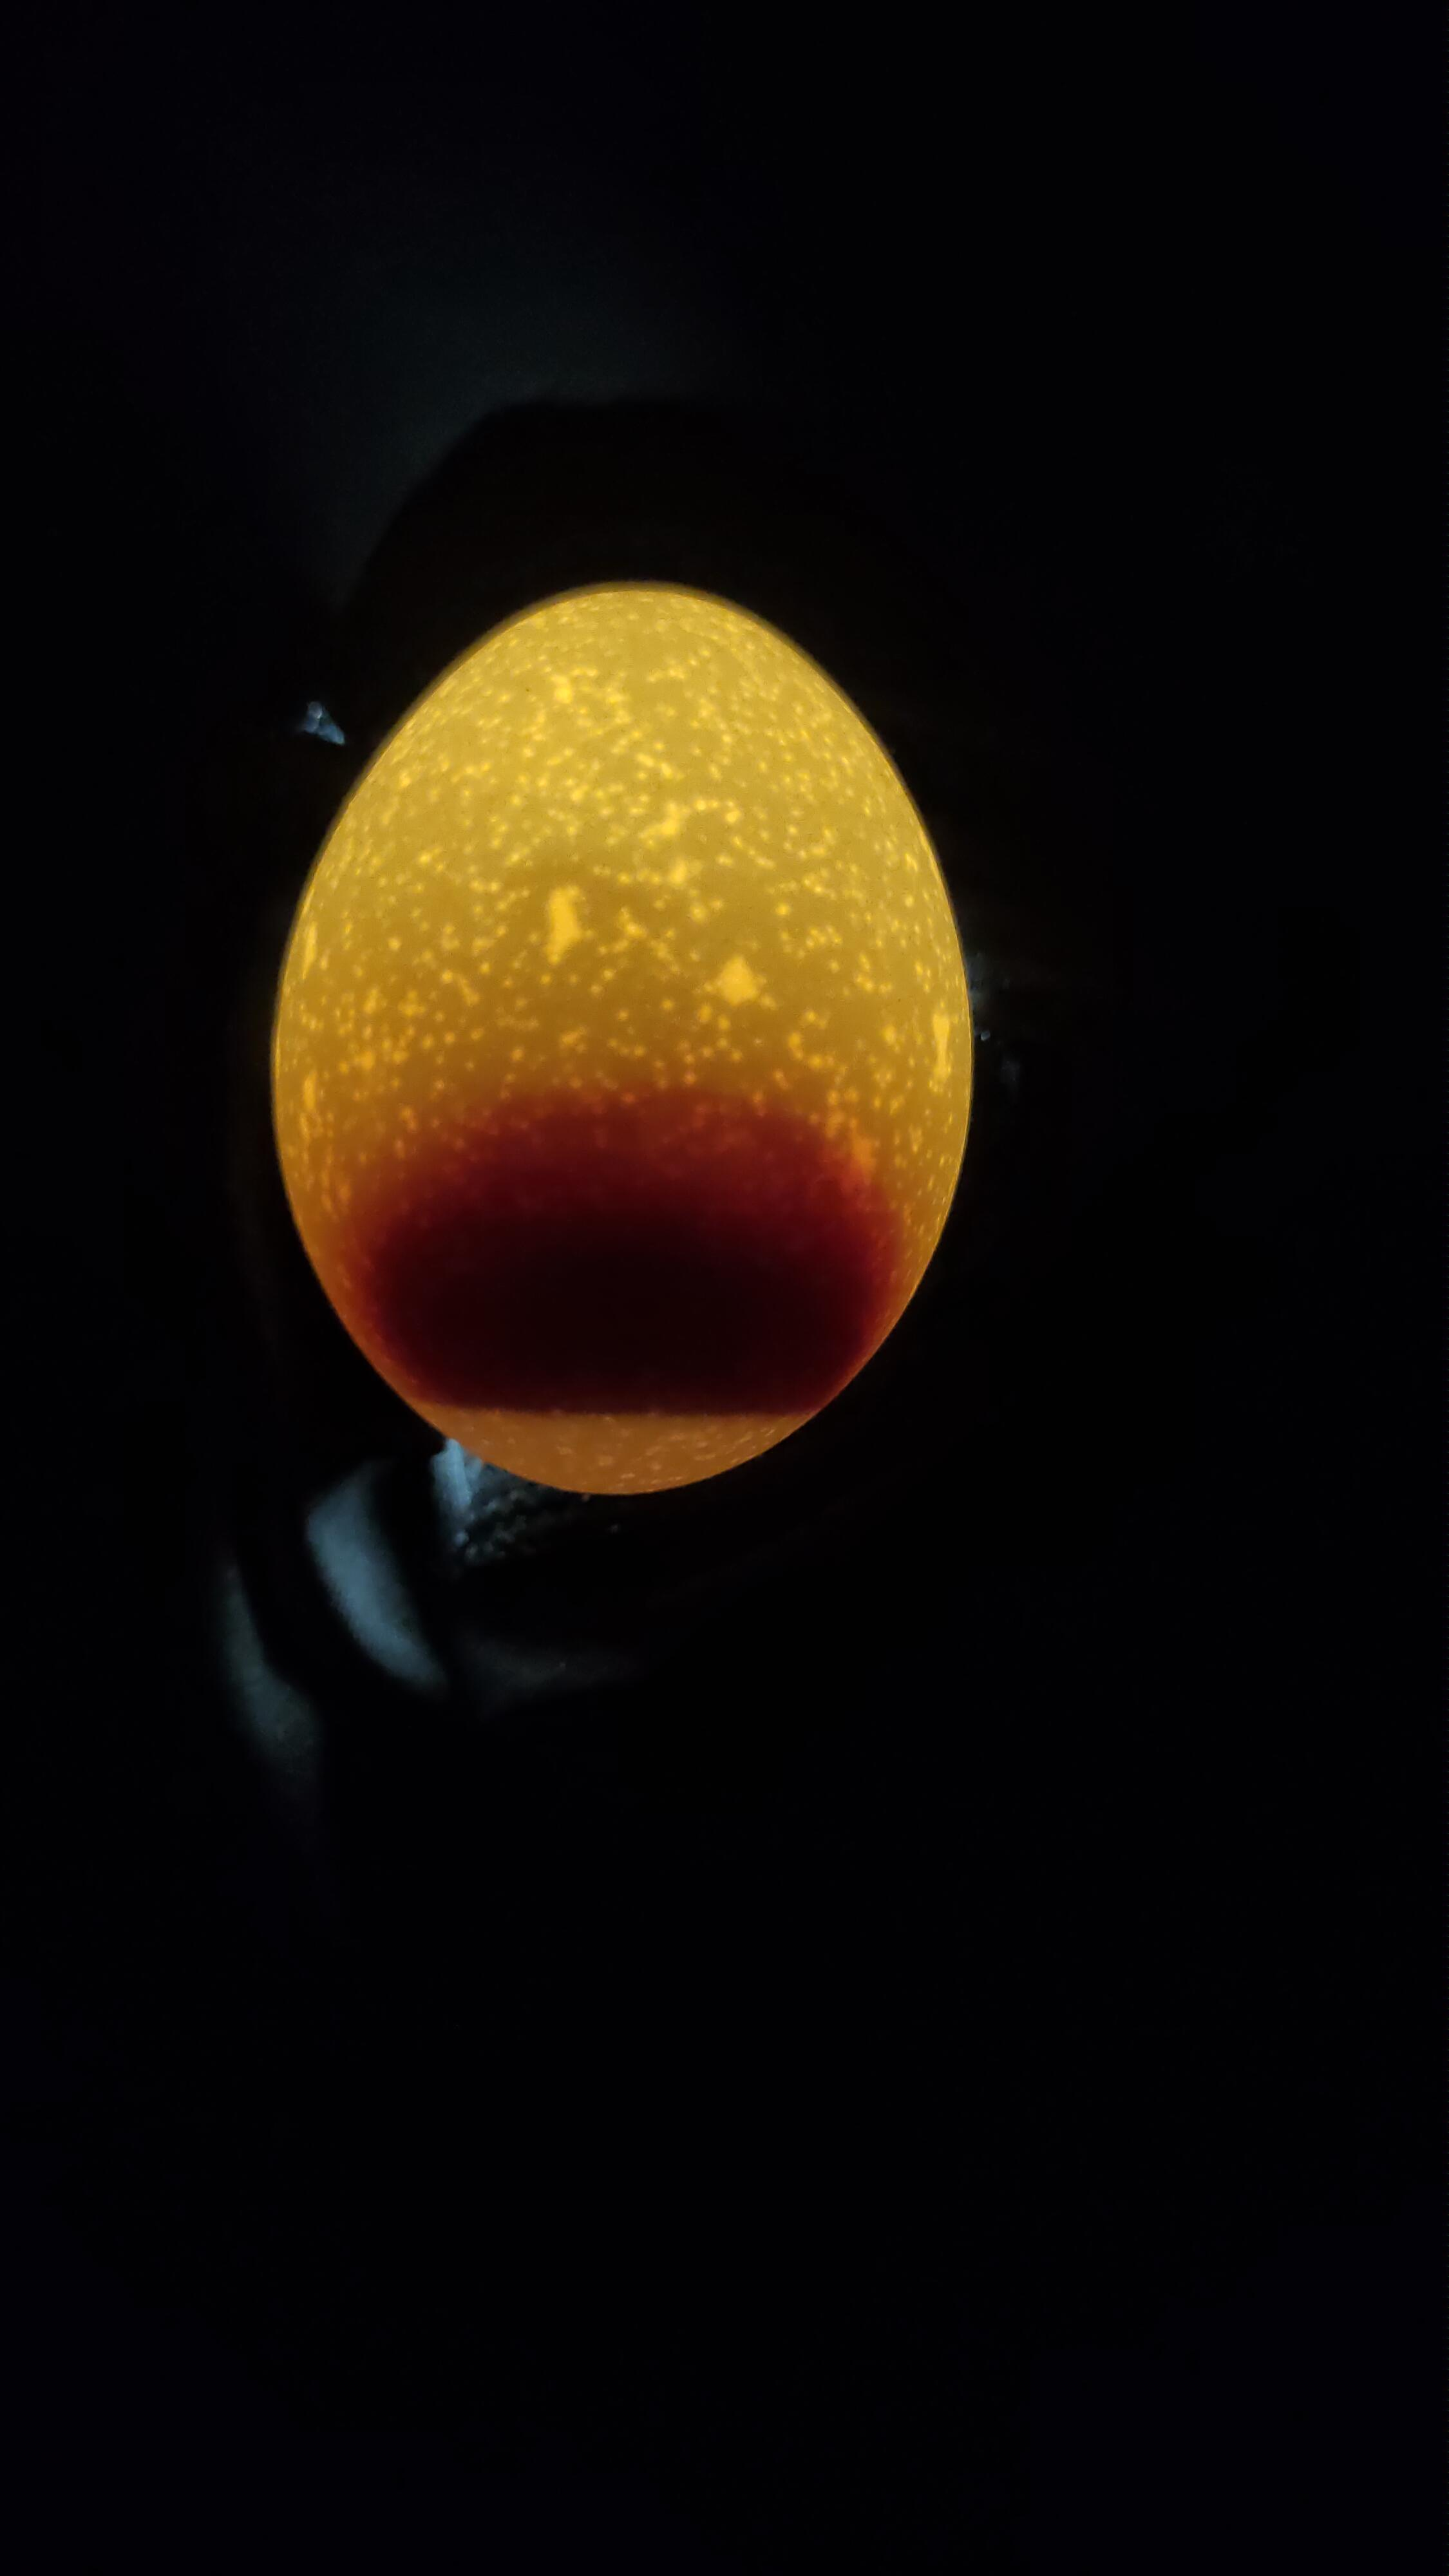AA - Premium: (225, 538, 1014, 1513)
